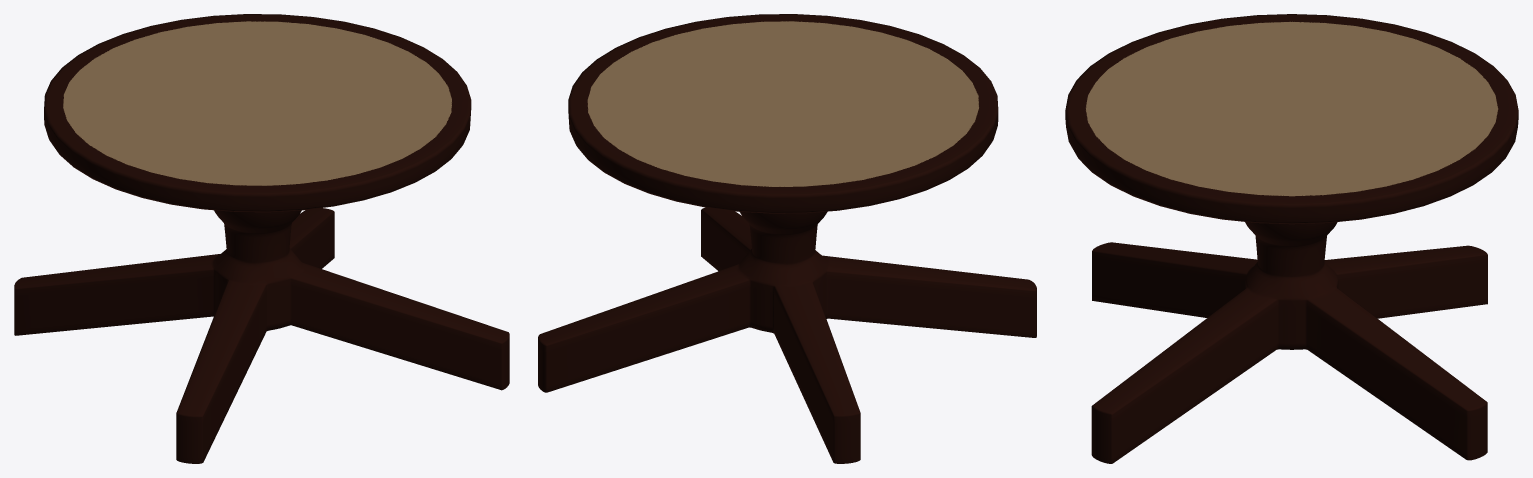
Rendered from table.fbx.
3 views of the same model, side by side, from view 1: azimuth 30°, elevation 25°; view 2: azimuth 150°, elevation 25°; view 3: azimuth 270°, elevation 25° (orthographic). The views are drawn at different scales.
Visible parts, largest first — view 1: pCylinder2; view 2: pCylinder2; view 3: pCylinder2.
Part boxes in pixels (x1,y1,x2,y2): pCylinder2: (14, 14, 509, 463); pCylinder2: (538, 14, 1036, 463); pCylinder2: (1065, 14, 1518, 463).
Bounding box in the file's own units: 167 × 110 × 167.
